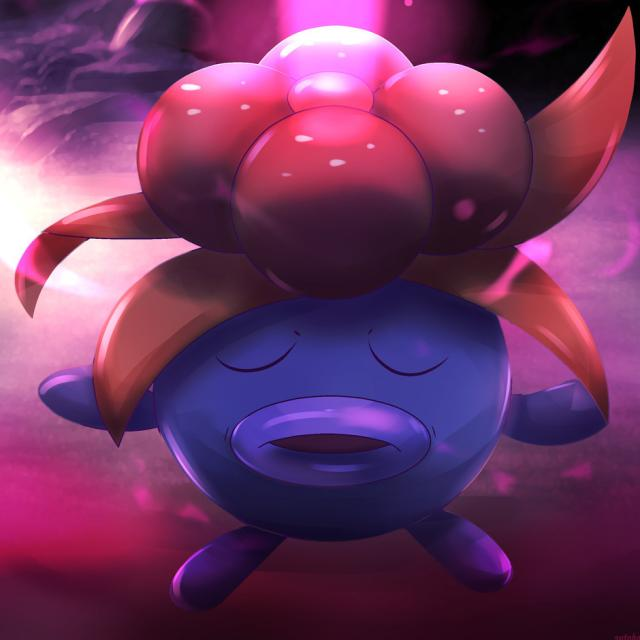Gloom: (113, 31, 597, 591)
